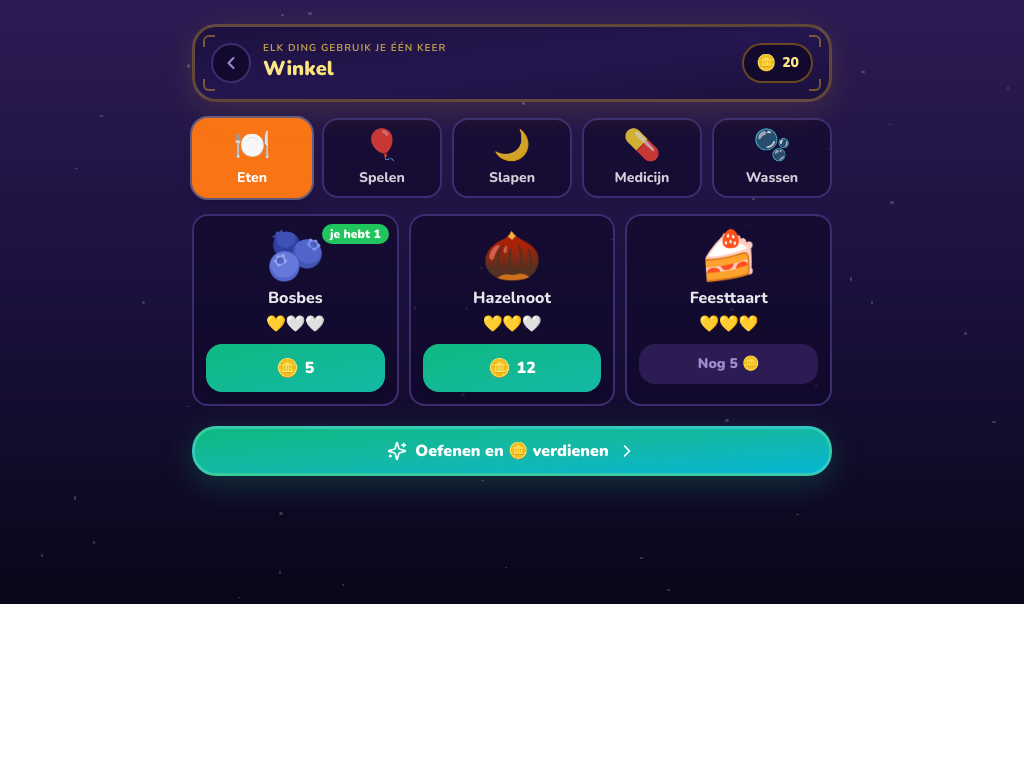
Test case: BuddyShop › cancels without buying when the child says no
Click the button "🌰 Hazelnoot 💛💛🤍 🪙 12".
click(512, 310)  # box [409,214,615,406]
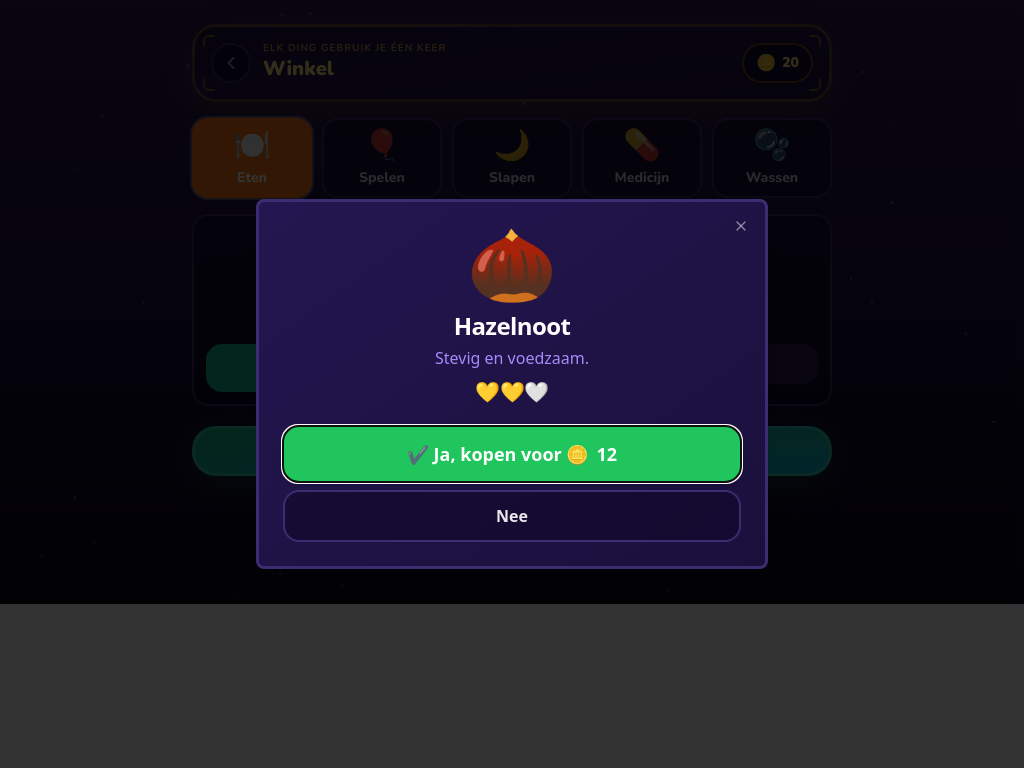
Click the button "Nee".
click(512, 516)  # box [283,490,741,542]
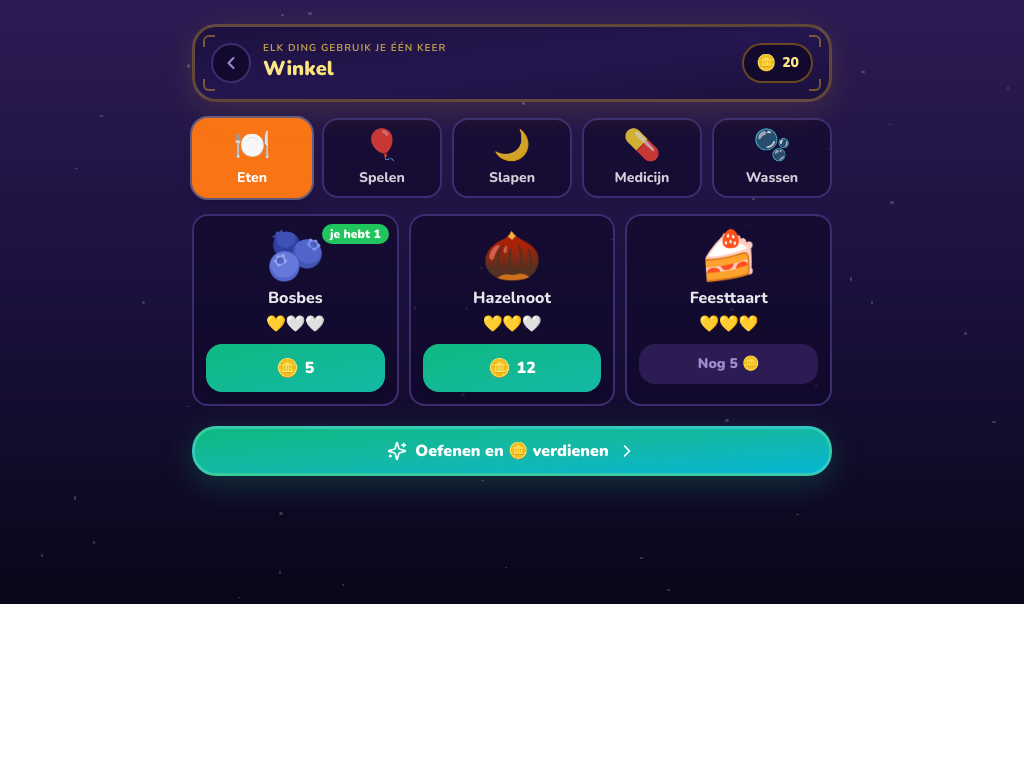
Now the dialog is gone
